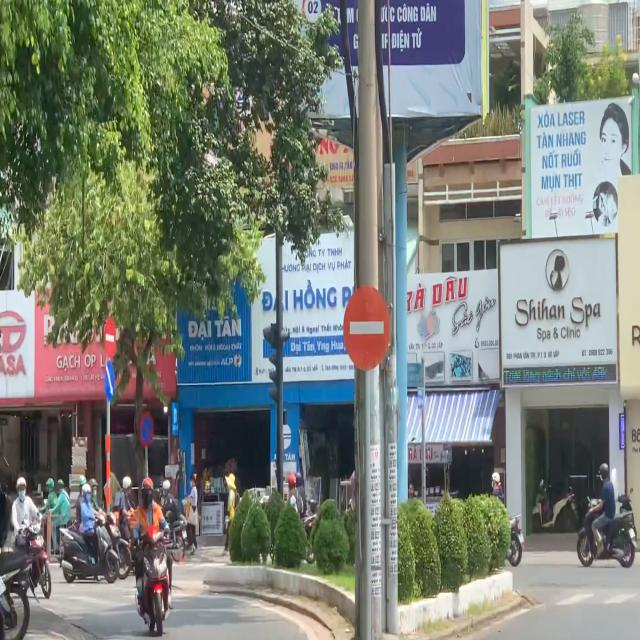Cam do: (139, 409, 154, 449)
Cam nguoc chieu: (340, 281, 392, 375), (104, 317, 116, 358)
Hieu lenh: (104, 362, 115, 402)
